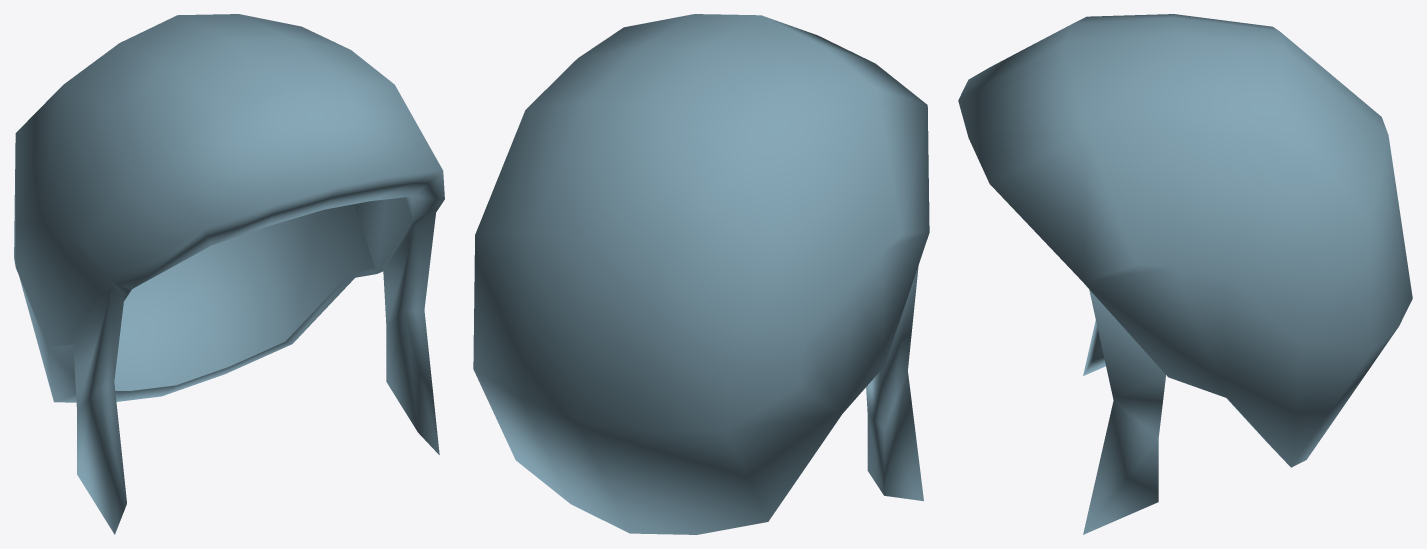
File: HelmetSteelOpen.dae
The picture shows the model from 3 angles, left to right: view 1: azimuth 30°, elevation 25°; view 2: azimuth 150°, elevation 25°; view 3: azimuth 270°, elevation 25°; orthographic projection. The views are drawn at different scales.
Parts seen in each view (by area): view 1: SteelOpenHelmet; view 2: SteelOpenHelmet; view 3: SteelOpenHelmet.
Part boxes in pixels (x1,y1,x2,y2): SteelOpenHelmet: (14,14,444,534); SteelOpenHelmet: (473,14,929,534); SteelOpenHelmet: (958,14,1412,534).
Size of the model in its own units: 0.2738 by 0.3211 by 0.3283.
